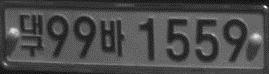1: (135, 16, 161, 61)
5: (194, 17, 219, 61), (165, 17, 189, 61)
9: (222, 17, 248, 62), (45, 13, 69, 57), (72, 14, 96, 57)
대구_V: (19, 12, 44, 57)
바: (99, 19, 125, 57)
